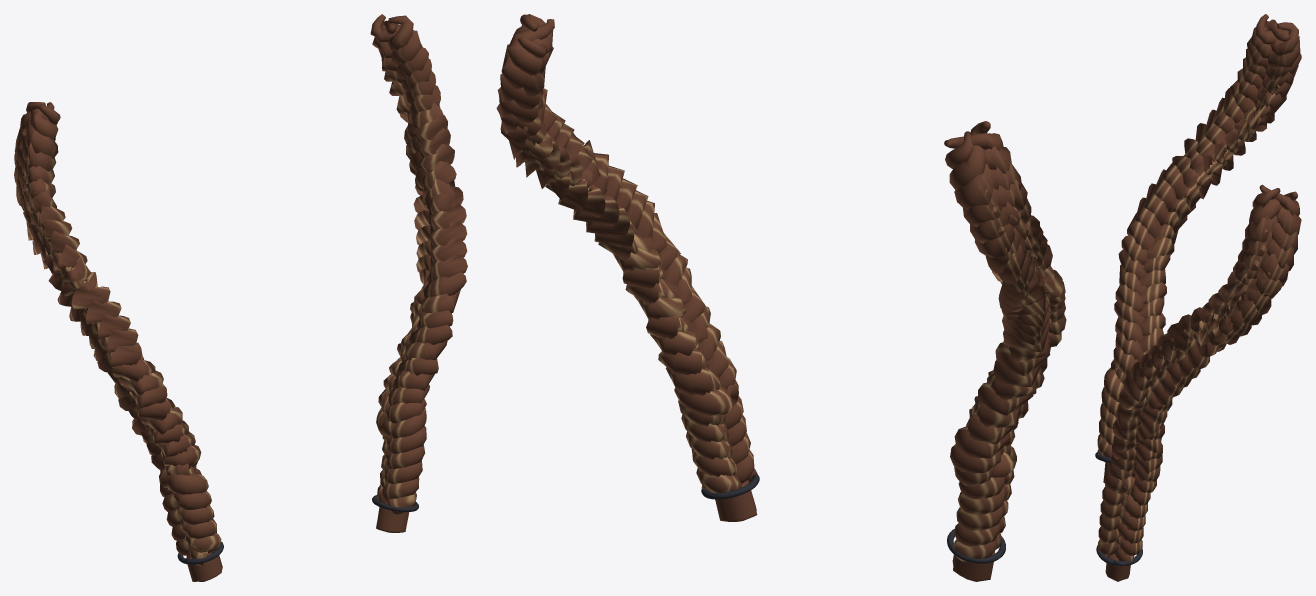
The model's file is Highlights-a4a6b3562a90252-hair.glb.
3 views of the same model, side by side, from view 1: azimuth 30°, elevation 25°; view 2: azimuth 150°, elevation 25°; view 3: azimuth 270°, elevation 25° (orthographic). The views are drawn at different scales.
Visible parts, largest first — view 1: 226 hairLengths / Hair / chestnut226, 226 hairLengths / Hair / ties226; view 2: 226 hairLengths / Hair / chestnut226, 226 hairLengths / Hair / ties226; view 3: 226 hairLengths / Hair / chestnut226, 226 hairLengths / Hair / ties226.
Boxes of the visible parts, x1,y1,x2,y2 form: 226 hairLengths / Hair / chestnut226: (14,14,467,581); 226 hairLengths / Hair / ties226: (177,495,418,564); 226 hairLengths / Hair / chestnut226: (496,14,1066,581); 226 hairLengths / Hair / ties226: (701,474,1005,563); 226 hairLengths / Hair / chestnut226: (1097,14,1301,581); 226 hairLengths / Hair / ties226: (1095,452,1142,566).
Bounding box in the file's own units: 1.03 × 1.06 × 0.4591.
Materials: 2 (1 with a texture image).
